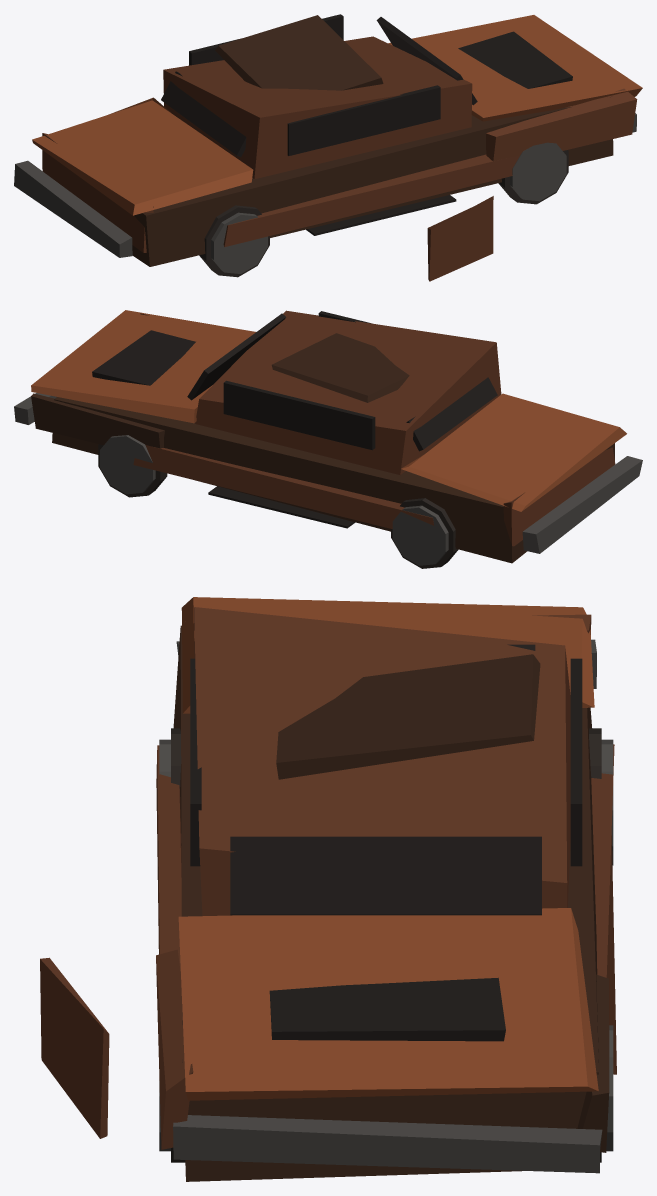
The model's file is wreck_sedan.glb.
3 views of the same model, one above another, from view 1: azimuth 30°, elevation 25°; view 2: azimuth 150°, elevation 25°; view 3: azimuth 270°, elevation 25° (orthographic). The views are drawn at different scales.
Visible parts, largest first — view 1: wreck_sedan; view 2: wreck_sedan; view 3: wreck_sedan.
Boxes of the visible parts, left/top/right/bottom form: wreck_sedan: left=14, top=14, right=642, bottom=281; wreck_sedan: left=14, top=310, right=642, bottom=568; wreck_sedan: left=40, top=597, right=616, bottom=1181.
Size of the model in its own units: 5.27 by 1.64 by 2.52.
